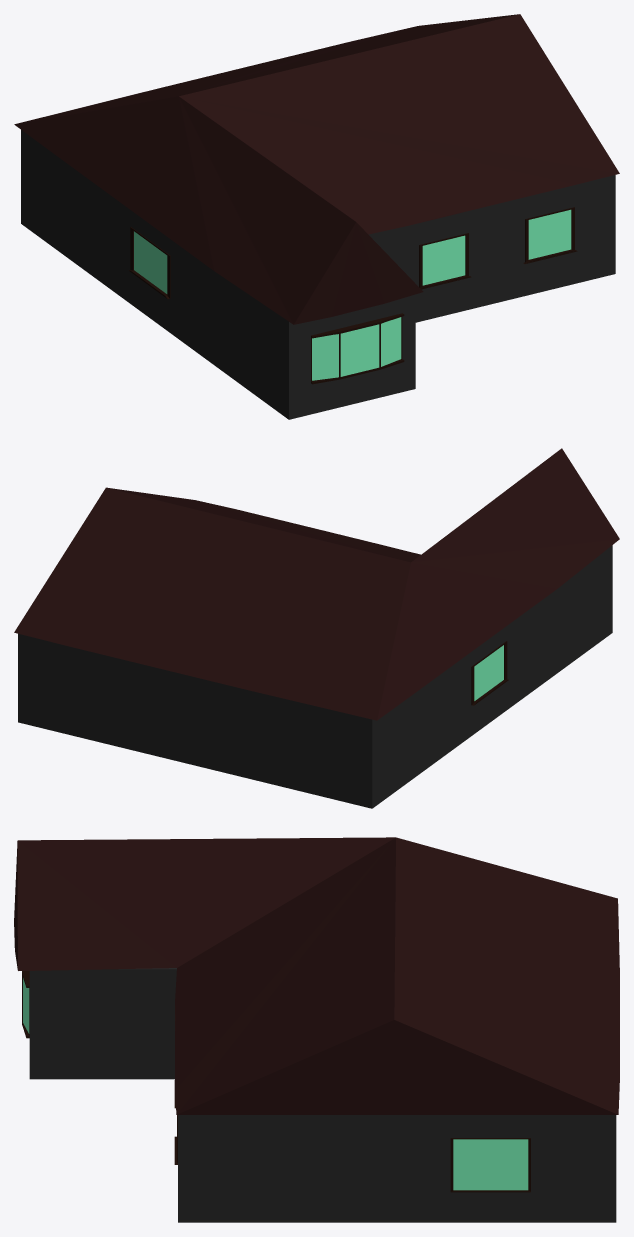
File: NewHouse1.FBX
3 views of the same model, one above another, from view 1: azimuth 30°, elevation 25°; view 2: azimuth 150°, elevation 25°; view 3: azimuth 270°, elevation 25° (orthographic). The views are drawn at different scales.
Parts seen in each view (by area): view 1: NewHouse1; view 2: NewHouse1; view 3: NewHouse1.
Boxes of the visible parts, left/top/right/bottom form: NewHouse1: left=14, top=14, right=619, bottom=419; NewHouse1: left=14, top=448, right=619, bottom=808; NewHouse1: left=14, top=837, right=619, bottom=1222.
Bounding box in the file's own units: 794 × 351 × 941.
